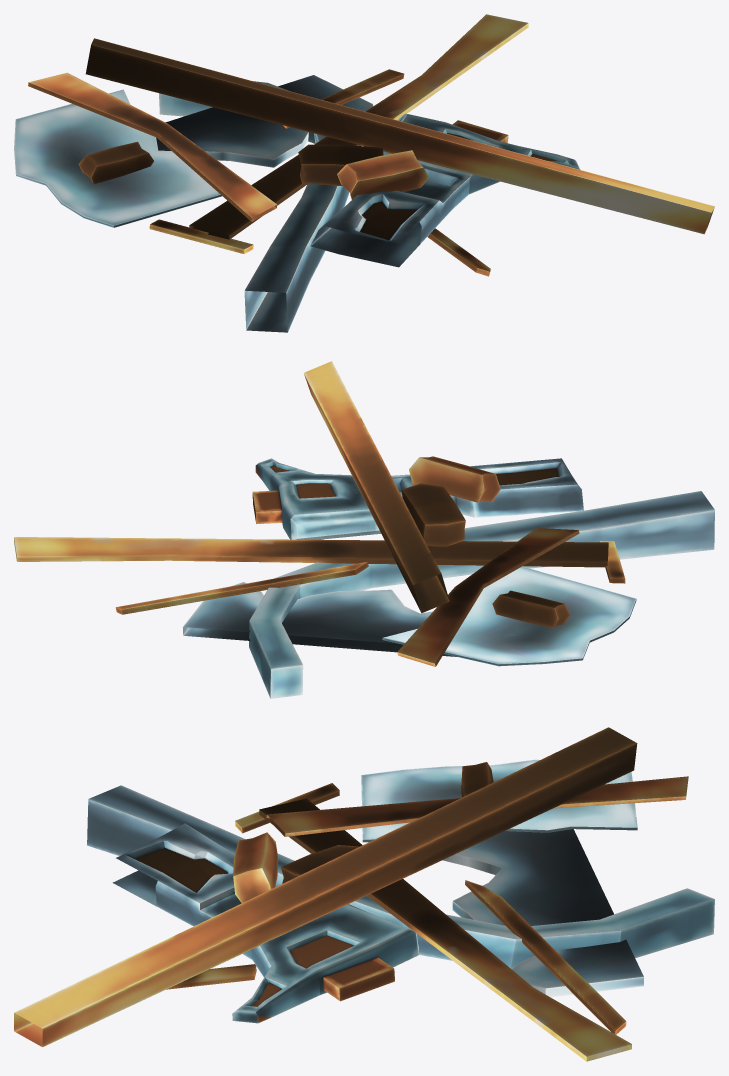
Rendered from Edificio_Ruinas_Suelo_03.FBX.
3 renders of one model, top to bottom at view 1: azimuth 30°, elevation 25°; view 2: azimuth 150°, elevation 25°; view 3: azimuth 270°, elevation 25°, orthographic. The views are drawn at different scales.
Parts seen in each view (by area): view 1: Edificio_Ruinas; view 2: Edificio_Ruinas; view 3: Edificio_Ruinas.
Boxes of the visible parts, x1,y1,x2,y2 form: Edificio_Ruinas: (14,14,714,332); Edificio_Ruinas: (14,361,714,698); Edificio_Ruinas: (14,727,714,1061).
Size of the model in its own units: 17.6 by 4.13 by 17.25.
